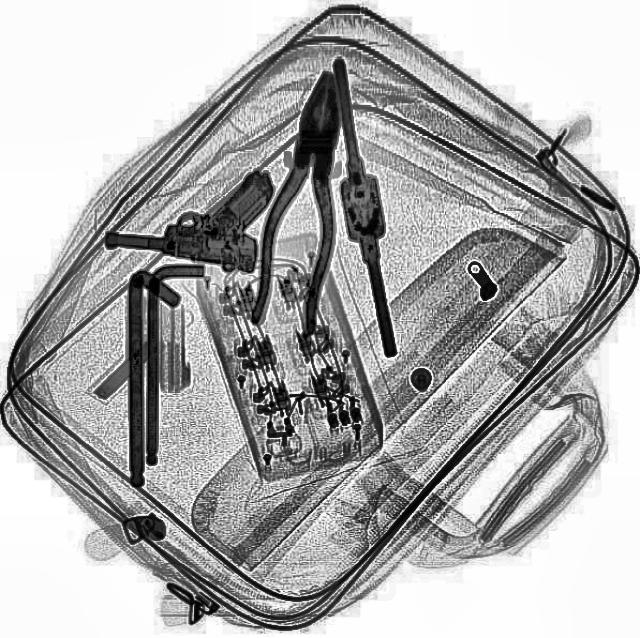Gun: (100, 154, 274, 274)
Pliers: (241, 65, 365, 337)
